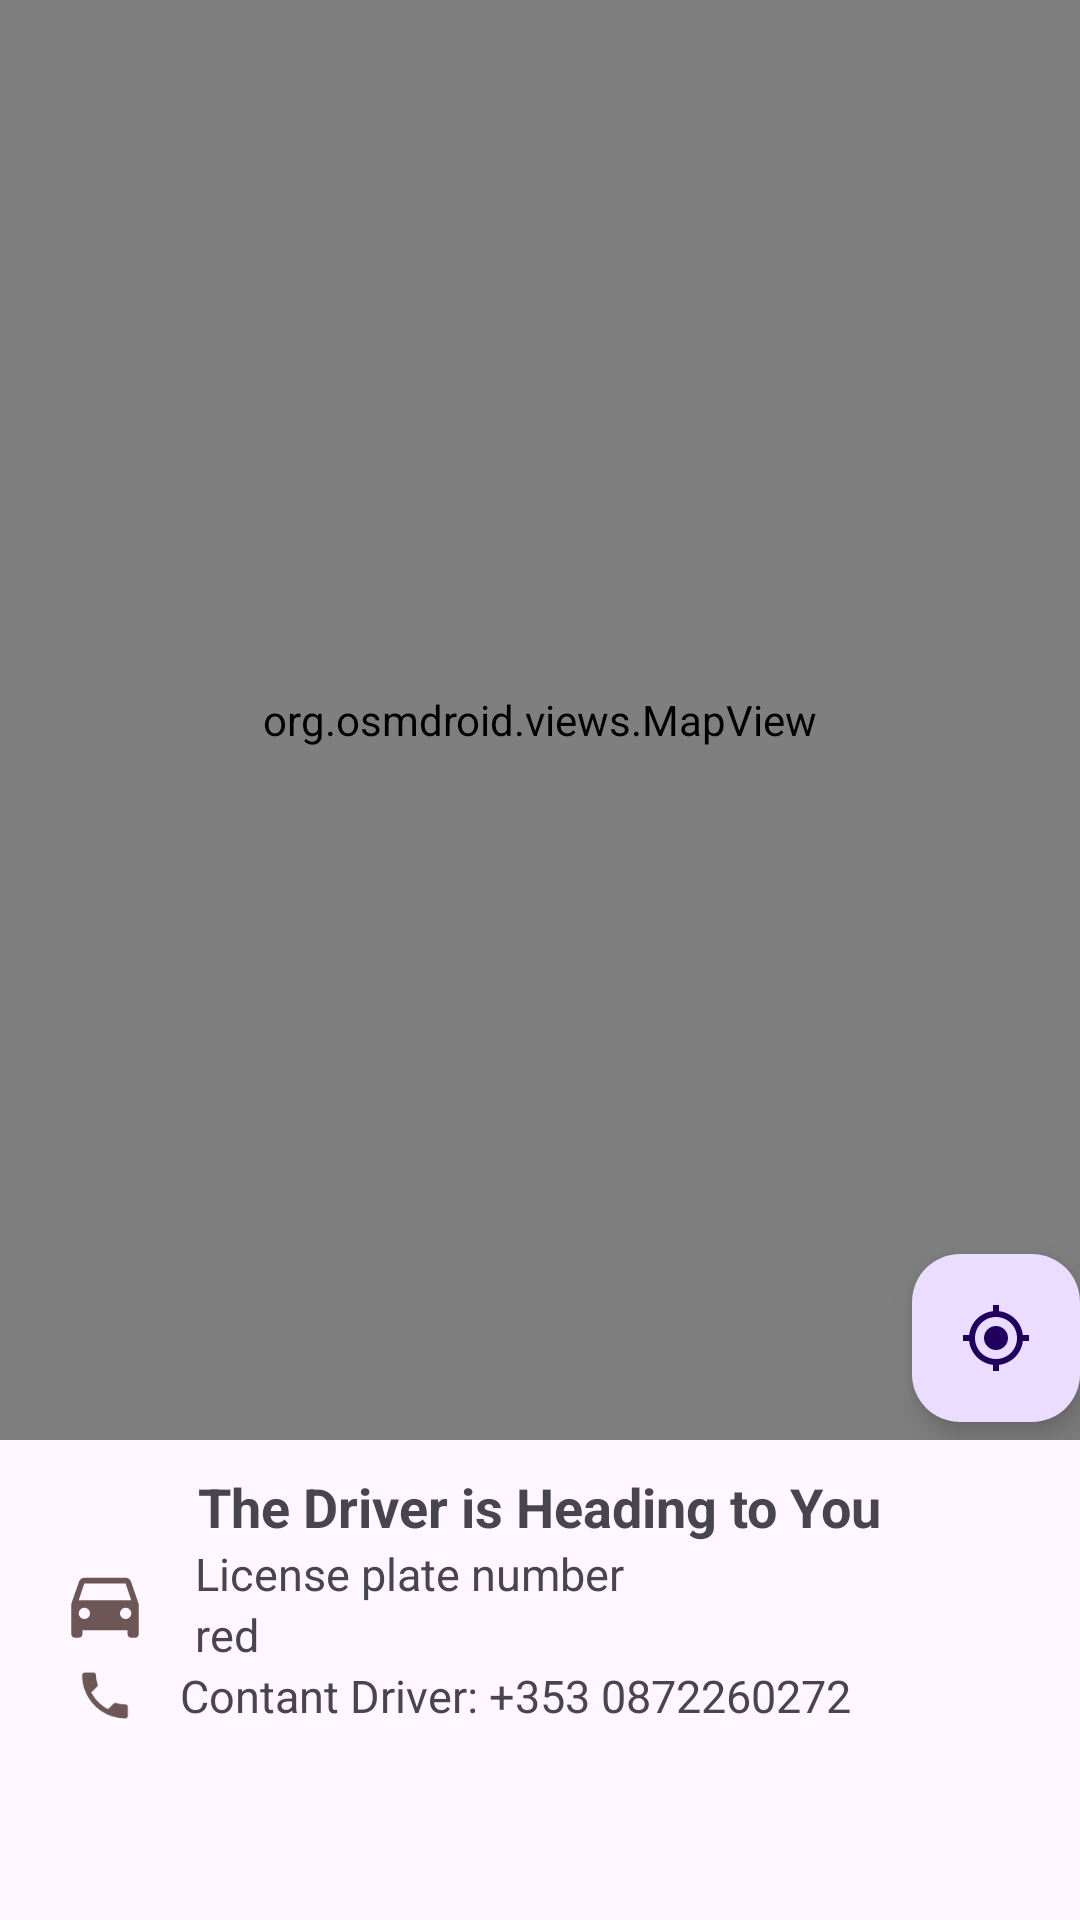

Locate icon controls on the screen. Image size 1080px x 1920px, boxes as (x1, y1, x2, y2).
directions car cherry: (71, 1577, 139, 1638)
local phone cherry: (82, 1672, 128, 1719)
location: (912, 1254, 1080, 1422)
